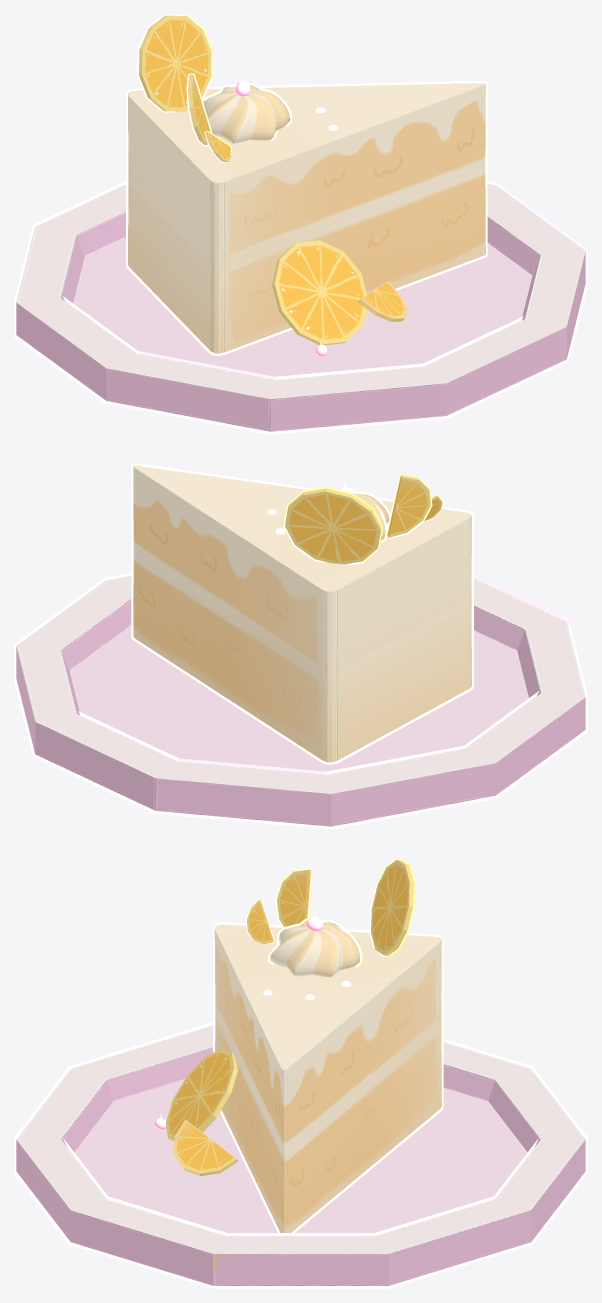
The model's file is orange_cake.glb.
3 renders of one model, top to bottom at view 1: azimuth 30°, elevation 25°; view 2: azimuth 150°, elevation 25°; view 3: azimuth 270°, elevation 25°, orthographic. The views are drawn at different scales.
Visible parts, largest first — view 1: Cylinder.001_9, Plane_2, Circle.002_6, Circle_4, Star.002_3, Circle.003_7, Circle.001_5; view 2: Cylinder.001_9, Plane_2, Circle_4, Circle.001_5, Star.002_3; view 3: Cylinder.001_9, Plane_2, Star.002_3, Circle.002_6, Circle_4, Circle.003_7, Circle.001_5, Circle.004_14.
Boxes of the visible parts, x1,y1,x2,y2 form: Cylinder.001_9: (14,181,587,434); Plane_2: (126,81,487,355); Circle.002_6: (272,240,367,345); Circle_4: (137,14,213,112); Star.002_3: (202,83,292,143); Circle.003_7: (358,281,407,321); Circle.001_5: (186,73,212,146); Cylinder.001_9: (14,573,587,829); Plane_2: (131,463,473,764); Circle_4: (283,487,382,565); Circle.001_5: (387,473,432,538); Star.002_3: (353,491,390,542); Cylinder.001_9: (14,1022,587,1288); Plane_2: (213,922,443,1232); Star.002_3: (267,918,362,977); Circle.002_6: (165,1048,237,1141); Circle_4: (369,858,415,957); Circle.003_7: (173,1119,238,1175); Circle.001_5: (275,868,312,927); Circle.004_14: (245,899,274,943).
Size of the model in its own units: 1.59 by 0.8707 by 1.67.
Materials: 6 (1 with a texture image).
